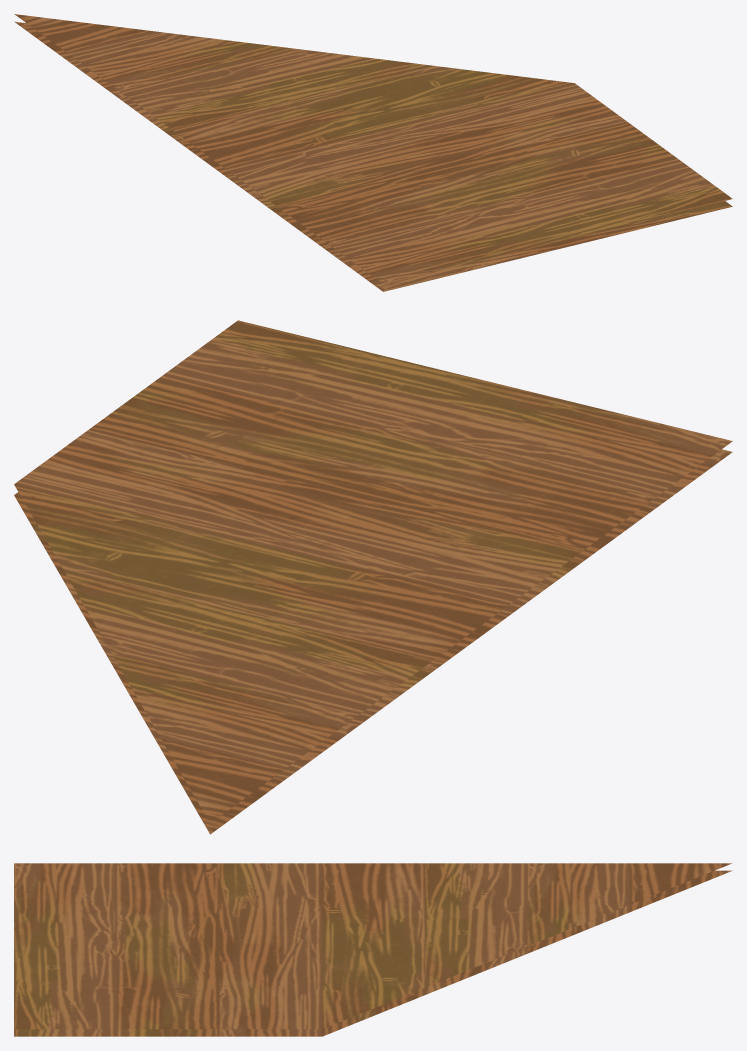
The model's file is floor_wood_light_overhang_corner2.gltf.
3 views of the same model, one above another, from view 1: azimuth 30°, elevation 25°; view 2: azimuth 150°, elevation 25°; view 3: azimuth 270°, elevation 25° (orthographic). The views are drawn at different scales.
Parts seen in each view (by area): view 1: Floor_WoodLight_OverhangCorner2; view 2: Floor_WoodLight_OverhangCorner2; view 3: Floor_WoodLight_OverhangCorner2.
Boxes of the visible parts, x1=… form: Floor_WoodLight_OverhangCorner2: x1=14, y1=14, x2=732, y2=291; Floor_WoodLight_OverhangCorner2: x1=14, y1=320, x2=732, y2=834; Floor_WoodLight_OverhangCorner2: x1=14, y1=863, x2=732, y2=1036.
Bounding box in the file's own units: 0.9566 × 0.02 × 1.75.
1 material, 1 textured.
